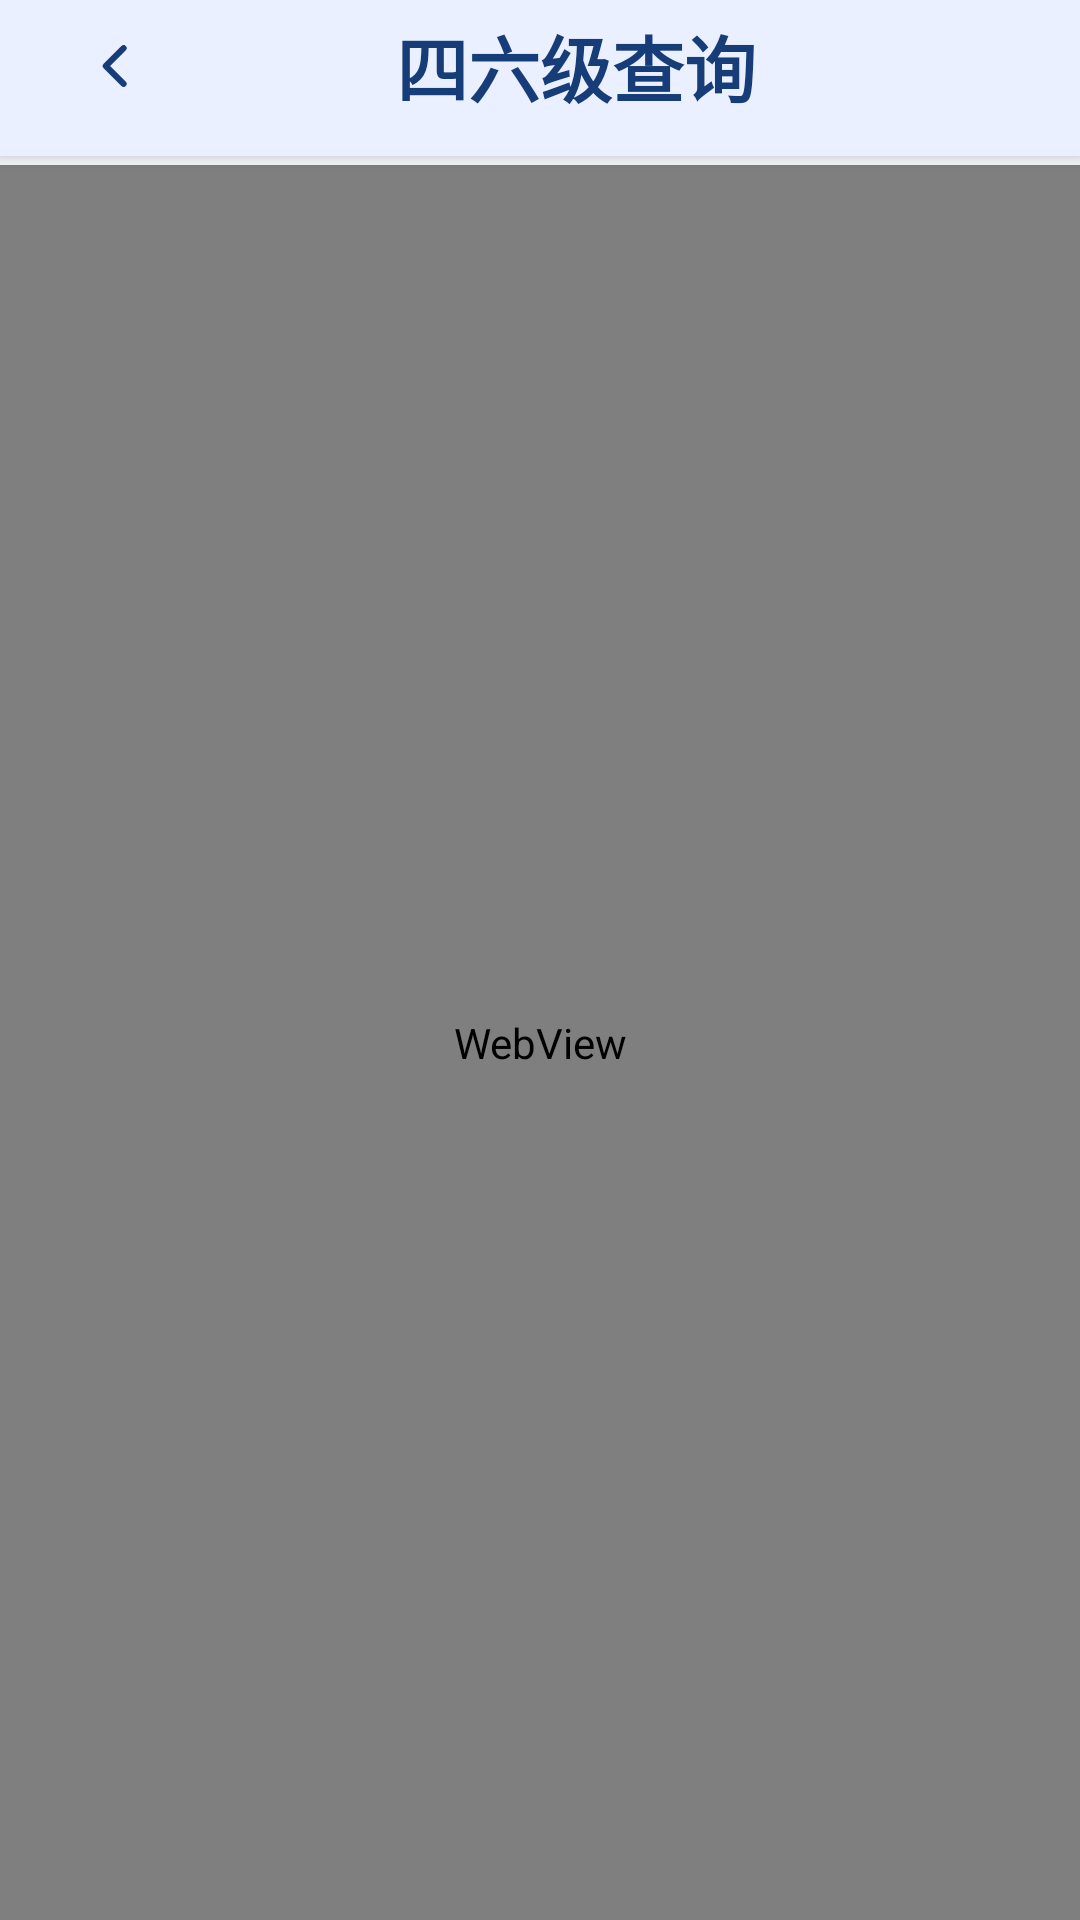

Screen size 1080×1920. Icon name, then its center in pixels as [x,y]:
返回: [114,66]
